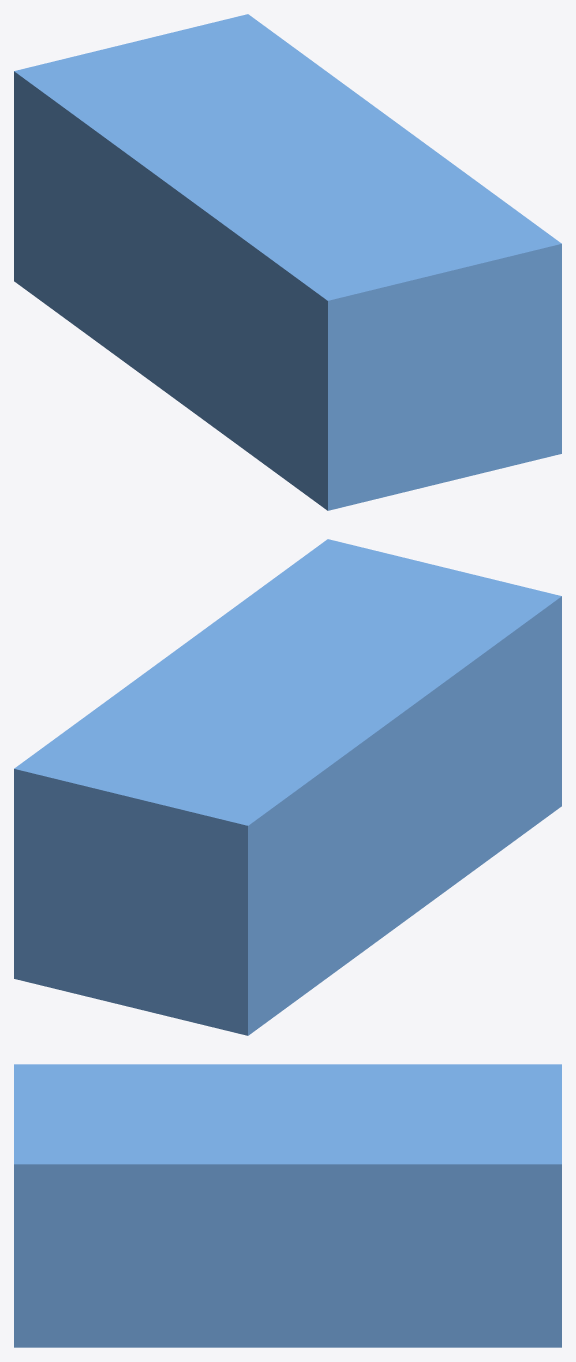
File: vending_machine.glb
3 renders of one model, top to bottom at view 1: azimuth 30°, elevation 25°; view 2: azimuth 150°, elevation 25°; view 3: azimuth 270°, elevation 25°, orthographic. The views are drawn at different scales.
Visible parts, largest first — view 1: body_0; view 2: body_0; view 3: body_0.
Part boxes in pixels (x1,y1,x2,y2): body_0: (14,14,561,510); body_0: (14,539,561,1035); body_0: (14,1064,561,1347).
Bounding box in the file's own units: 0.84 × 0.755 × 1.95.
